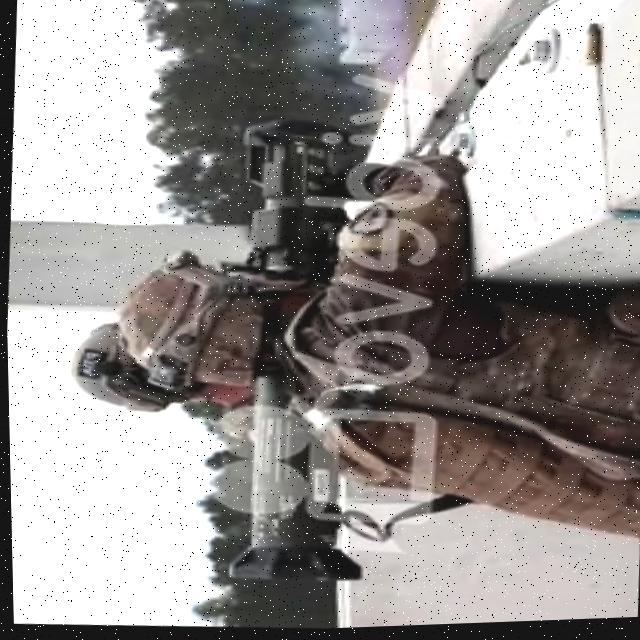rocket: (192, 117, 410, 594)
